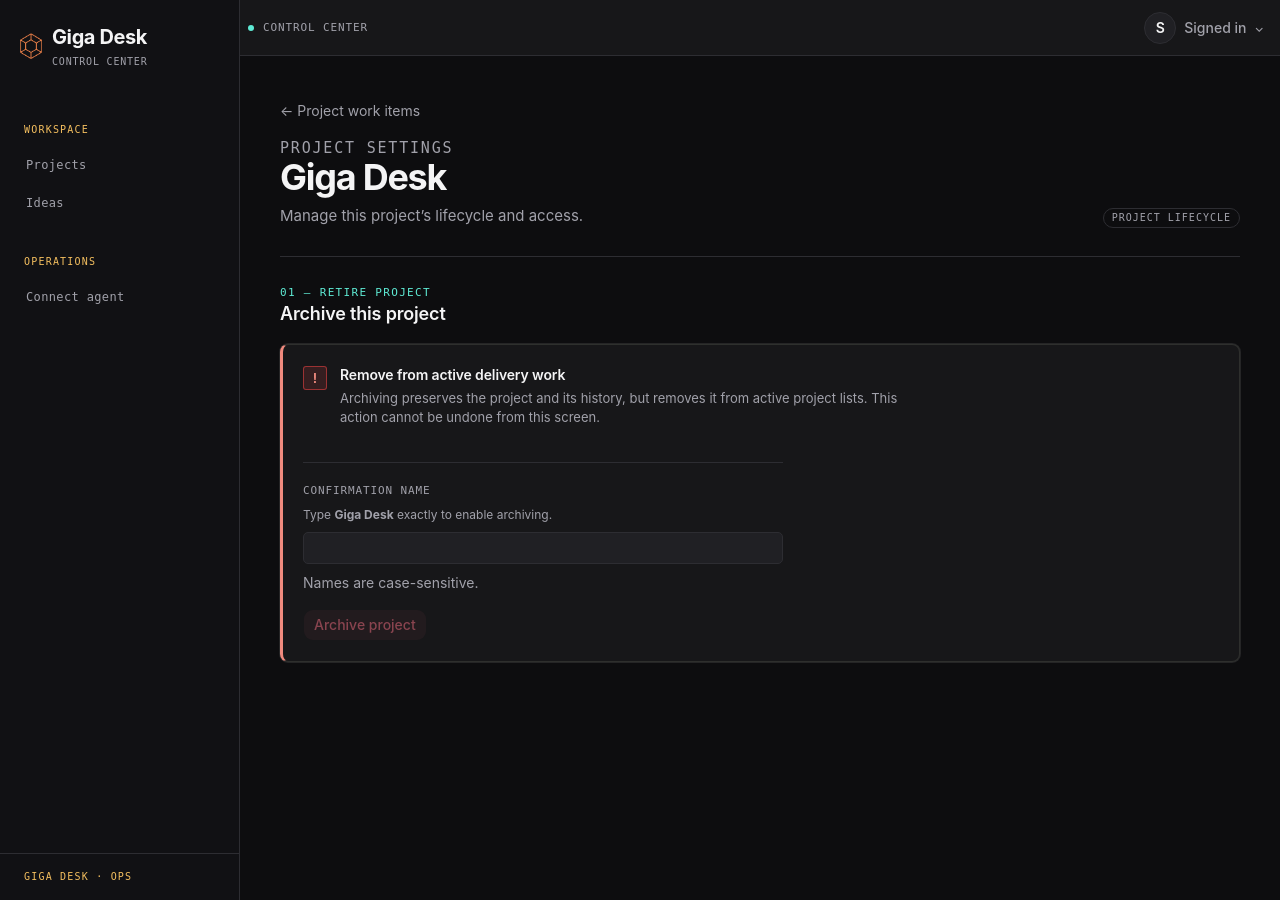
Test case: App › requires the exact project name before enabling archive confirmation
This screenshot has width=1280, height=900.
Expected: the button "Archive project" is disabled, 303,609 -> 427,641
In the field labelled "Confirmation name": (543, 548) 303,532 -> 783,564, type "Giga desk"
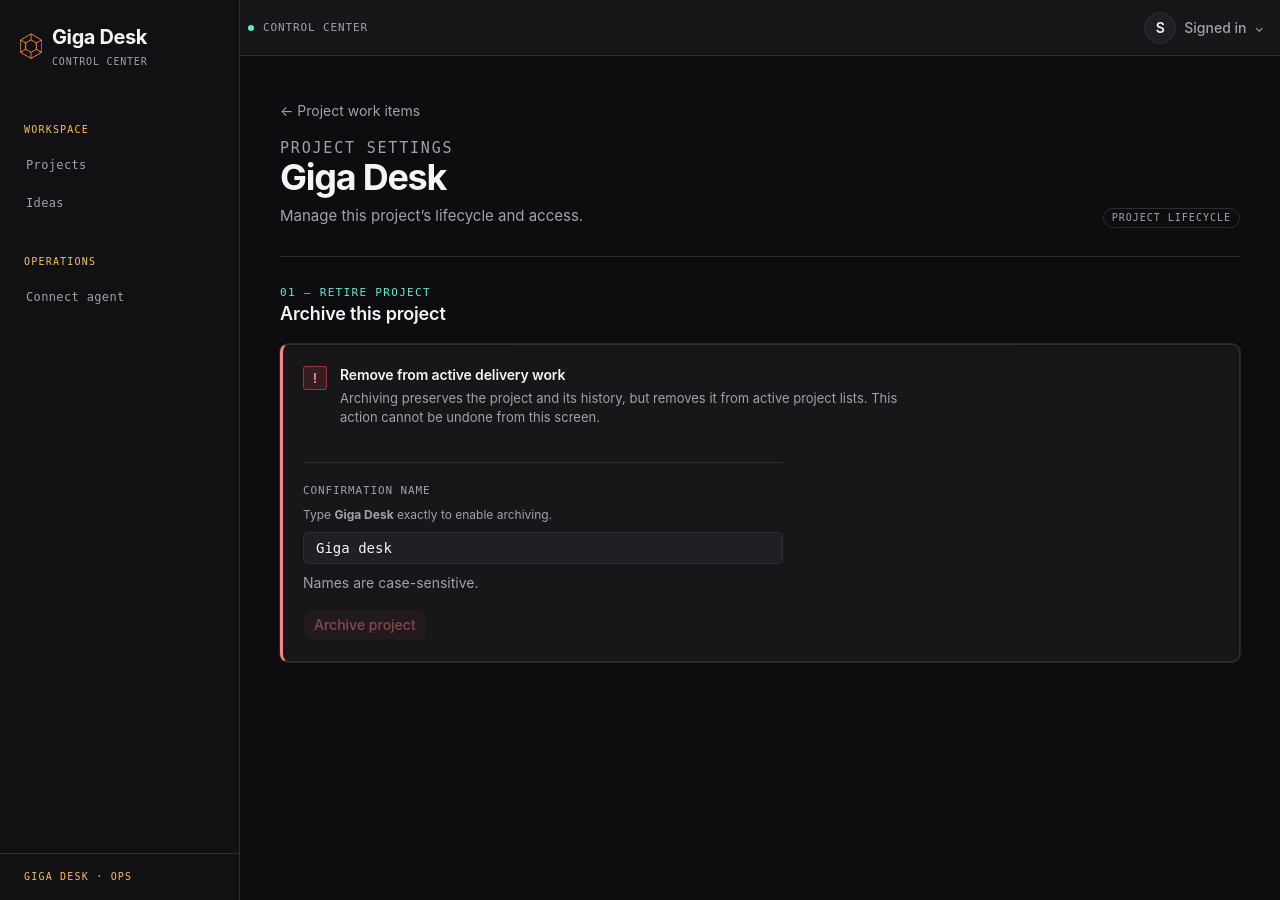
Expected: the button "Archive project" is disabled, 303,609 -> 427,641
Replace the text in the field labelled "Confirmation name" with "Giga Desk": (543, 548) 303,532 -> 783,564
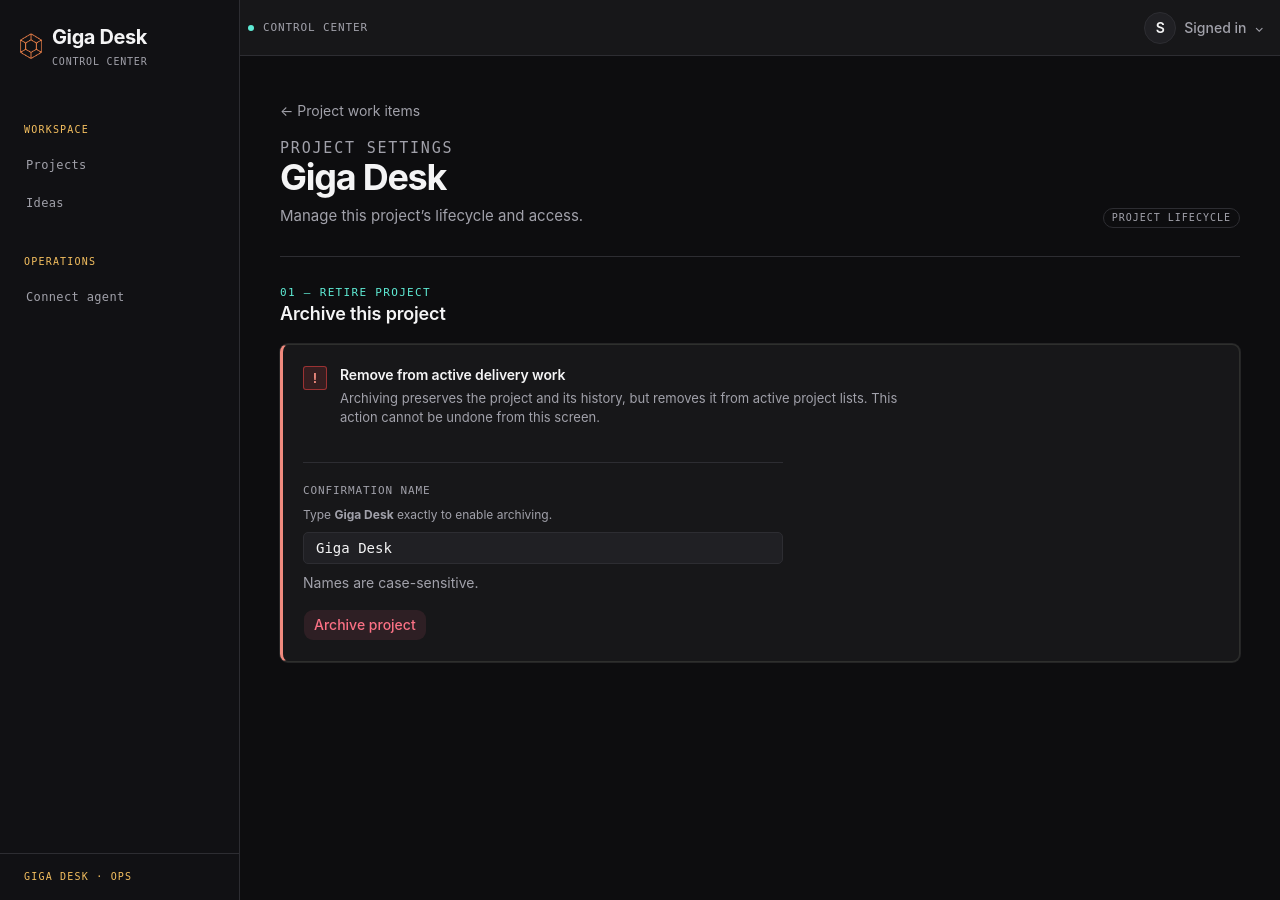
Expected: the button "Archive project" is enabled, 303,609 -> 427,641
